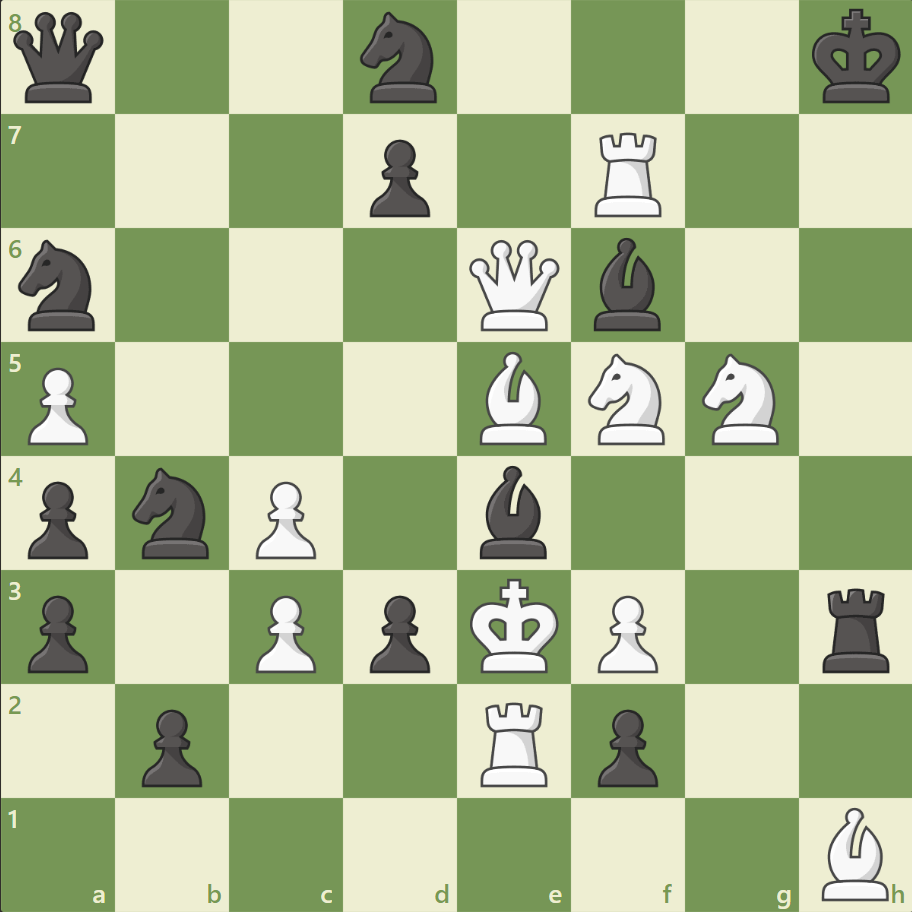B: (812, 801, 896, 904), (471, 347, 555, 449)
K: (465, 571, 565, 679)
N: (579, 348, 676, 450), (692, 348, 789, 450)
P: (20, 359, 95, 450), (247, 473, 322, 564), (247, 586, 322, 677), (588, 586, 662, 677)
Q: (464, 236, 563, 335)
R: (587, 125, 670, 222), (473, 693, 556, 790)
b: (585, 233, 669, 336), (471, 460, 555, 563)
k: (806, 4, 906, 112)
n: (351, 7, 449, 110), (124, 461, 222, 564), (11, 234, 108, 337)
p: (20, 473, 95, 564), (20, 586, 95, 677), (133, 700, 208, 791), (361, 132, 435, 223), (361, 586, 435, 677), (588, 700, 662, 791)
q: (10, 9, 109, 108)
r: (814, 579, 897, 676)
